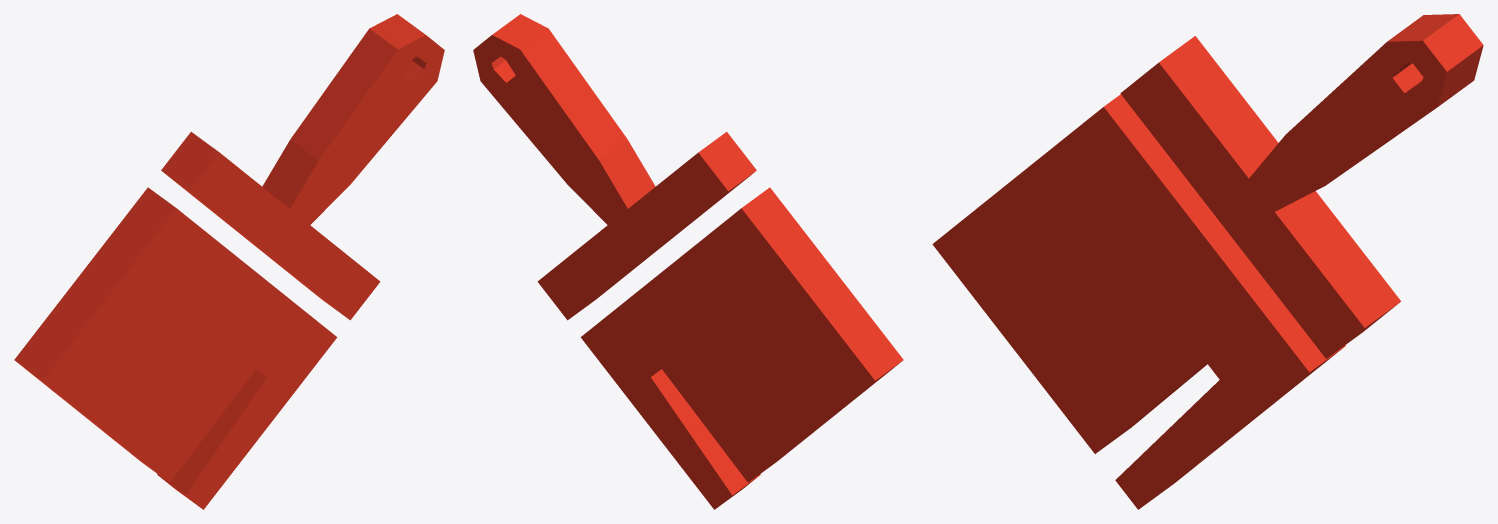
Rendered from Icon_Brush_02.fbx.
The picture shows the model from 3 angles, left to right: view 1: azimuth 30°, elevation 25°; view 2: azimuth 150°, elevation 25°; view 3: azimuth 330°, elevation 25°; orthographic projection. The views are drawn at different scales.
Parts seen in each view (by area): view 1: Icon_Brush_02; view 2: Icon_Brush_02; view 3: Icon_Brush_02.
Part boxes in pixels (x1,y1,x2,y2): Icon_Brush_02: (14, 14, 444, 509); Icon_Brush_02: (473, 14, 903, 509); Icon_Brush_02: (932, 14, 1483, 509).
Bounding box in the file's own units: 76.65 × 76.65 × 9.43.
